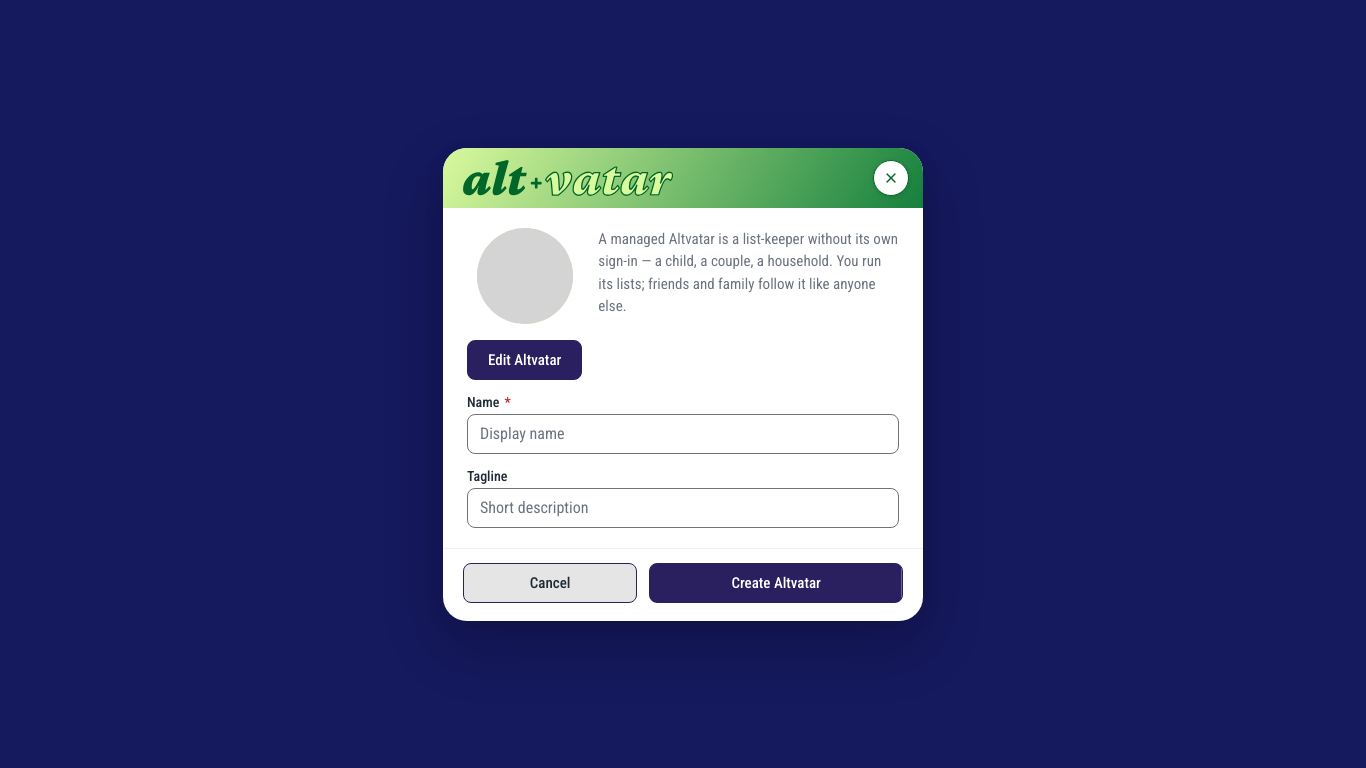
Scenario: NewProfileForm › AltvatarPreselection › Open_PreselectsExactlyOnePreset
Click the button "Edit Altvatar": {"x": 525, "y": 360} [467,340,582,380]
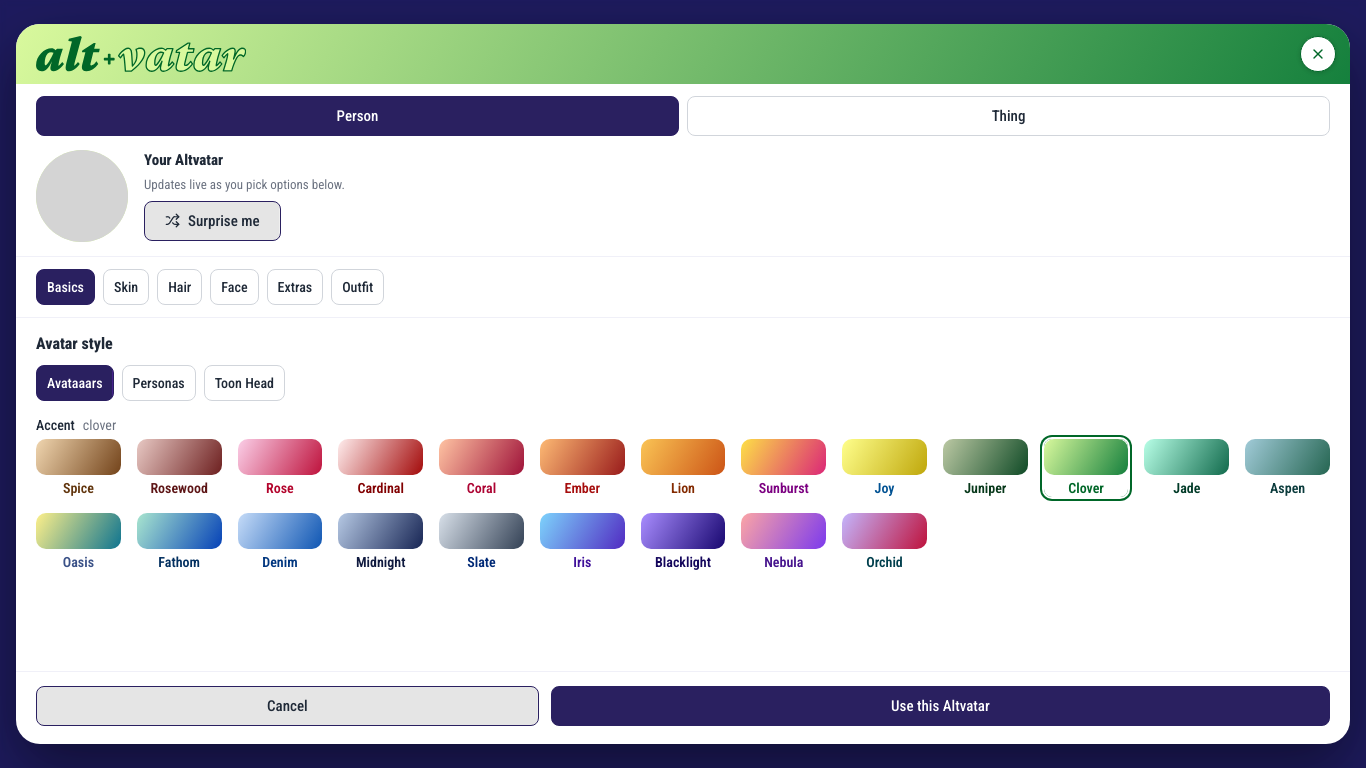
Result: the radio button labelled "clover" holds "clover" at [1044,439,1128,497]
